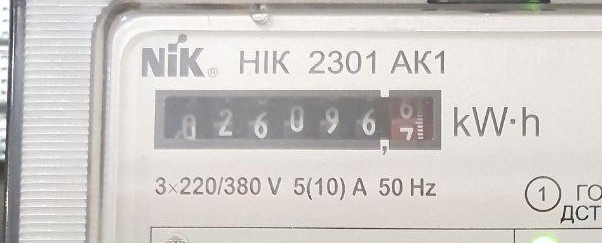0: (287, 102, 307, 137), (179, 110, 199, 142)
2: (215, 106, 236, 141)
6: (252, 108, 271, 143), (360, 105, 378, 138), (397, 95, 416, 122)
7: (398, 124, 416, 145)
9: (323, 105, 342, 137)
screen: (145, 81, 450, 162)
